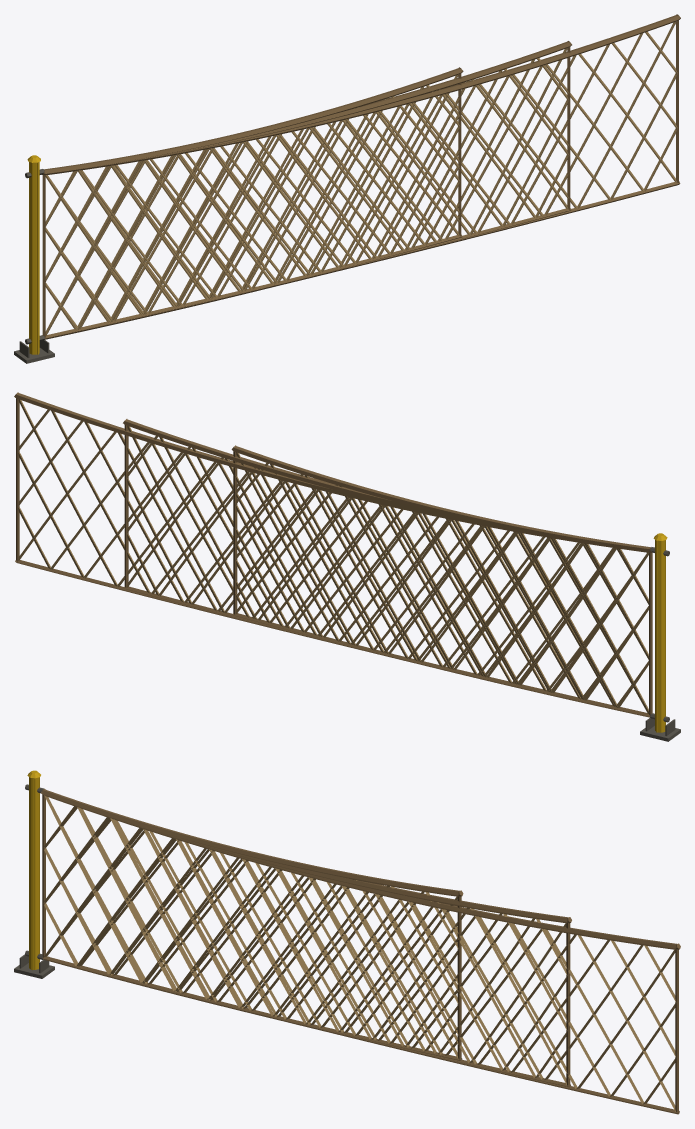
Rendered from ferry_net_mid.glb.
3 views of the same model, one above another, from view 1: azimuth 30°, elevation 25°; view 2: azimuth 150°, elevation 25°; view 3: azimuth 330°, elevation 25° (orthographic).
Visible parts, largest first — view 1: bay_6, bay_5, bay_4, post; view 2: bay_6, bay_5, bay_4, post; view 3: bay_6, bay_5, bay_4, post, eye.
Boxes of the visible parts, x1,y1,x2,y2 form: bay_6: (42, 14, 680, 338); bay_5: (42, 41, 571, 337); bay_4: (42, 67, 463, 339); post: (14, 155, 54, 363); bay_6: (14, 392, 652, 716); bay_5: (123, 419, 652, 714); bay_4: (231, 445, 652, 717); post: (640, 533, 680, 741); bay_6: (41, 789, 680, 1114); bay_5: (42, 788, 571, 1087); bay_4: (41, 789, 463, 1060); post: (14, 770, 54, 978); eye: (31, 778, 43, 970).
Bounding box in the file's own units: 6.07 × 1.75 × 0.2.
